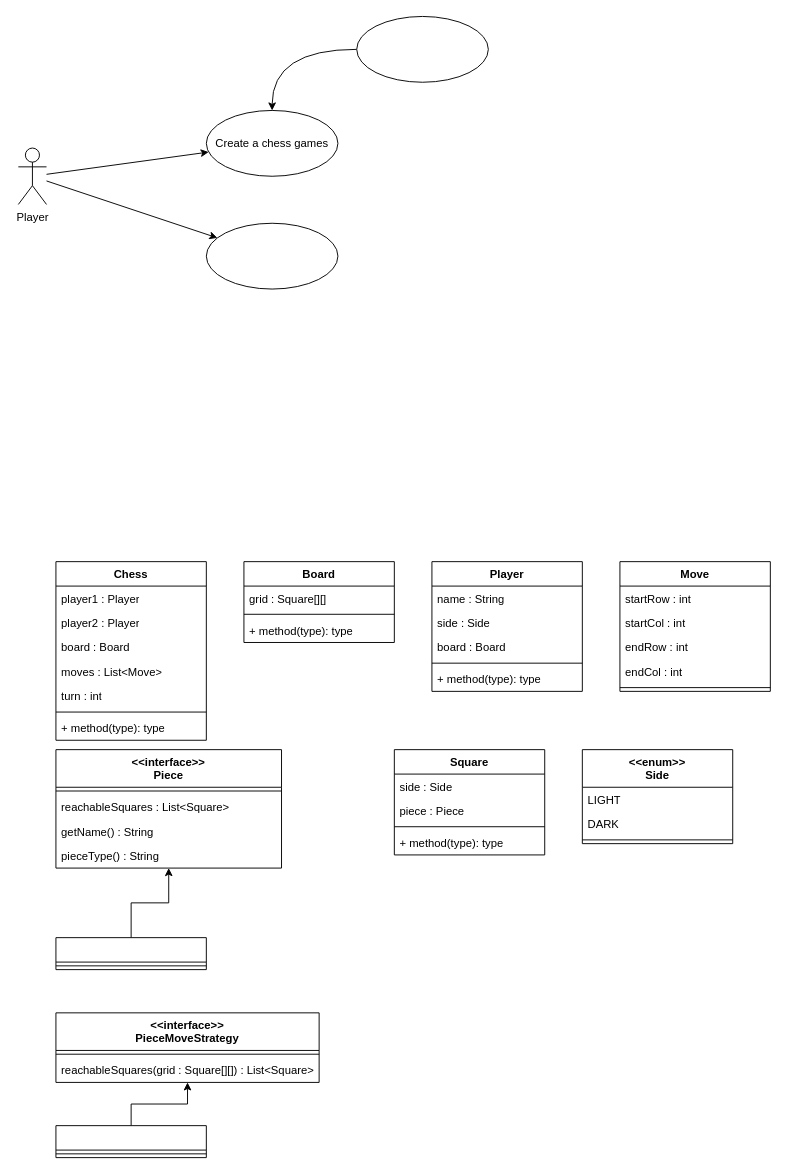
This 787x1174 diagram has some shape labels left out. The centre of each missing label's shape, as x and y in pixels:
King: the point at 130,953
KingPieceMoveStrategy: the point at 130,1141
make moves: the point at 271,255
Provide player1 and player2 details: the point at 422,49
